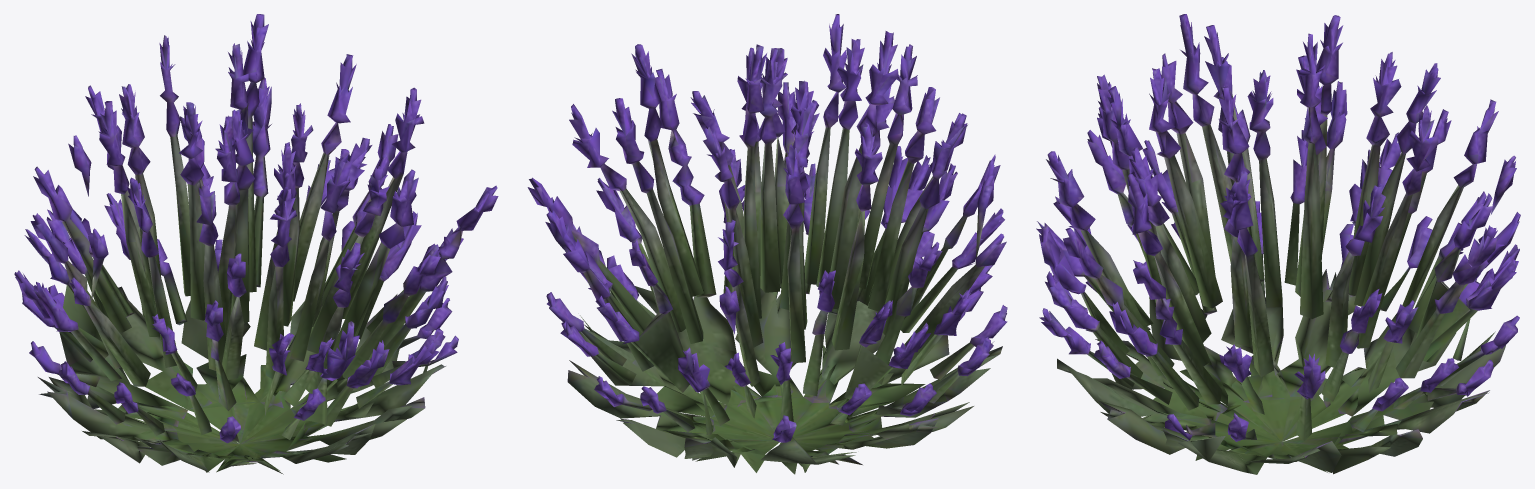
File: lavande.glb
3 renders of one model, left to right at view 1: azimuth 30°, elevation 25°; view 2: azimuth 150°, elevation 25°; view 3: azimuth 270°, elevation 25°, orthographic. The views are drawn at different scales.
Parts seen in each view (by area): view 1: tripo_node_52166c6a-94c8-42f6-ab7e-764612bc2ffd; view 2: tripo_node_52166c6a-94c8-42f6-ab7e-764612bc2ffd; view 3: tripo_node_52166c6a-94c8-42f6-ab7e-764612bc2ffd.
Part boxes in pixels (x1=…): tripo_node_52166c6a-94c8-42f6-ab7e-764612bc2ffd: x1=14, y1=14, x2=498, y2=474; tripo_node_52166c6a-94c8-42f6-ab7e-764612bc2ffd: x1=527, y1=14, x2=1007, y2=474; tripo_node_52166c6a-94c8-42f6-ab7e-764612bc2ffd: x1=1036, y1=14, x2=1520, y2=474.
Size of the model in its own units: 0.998 by 0.9355 by 0.998.
1 material, 1 textured.
